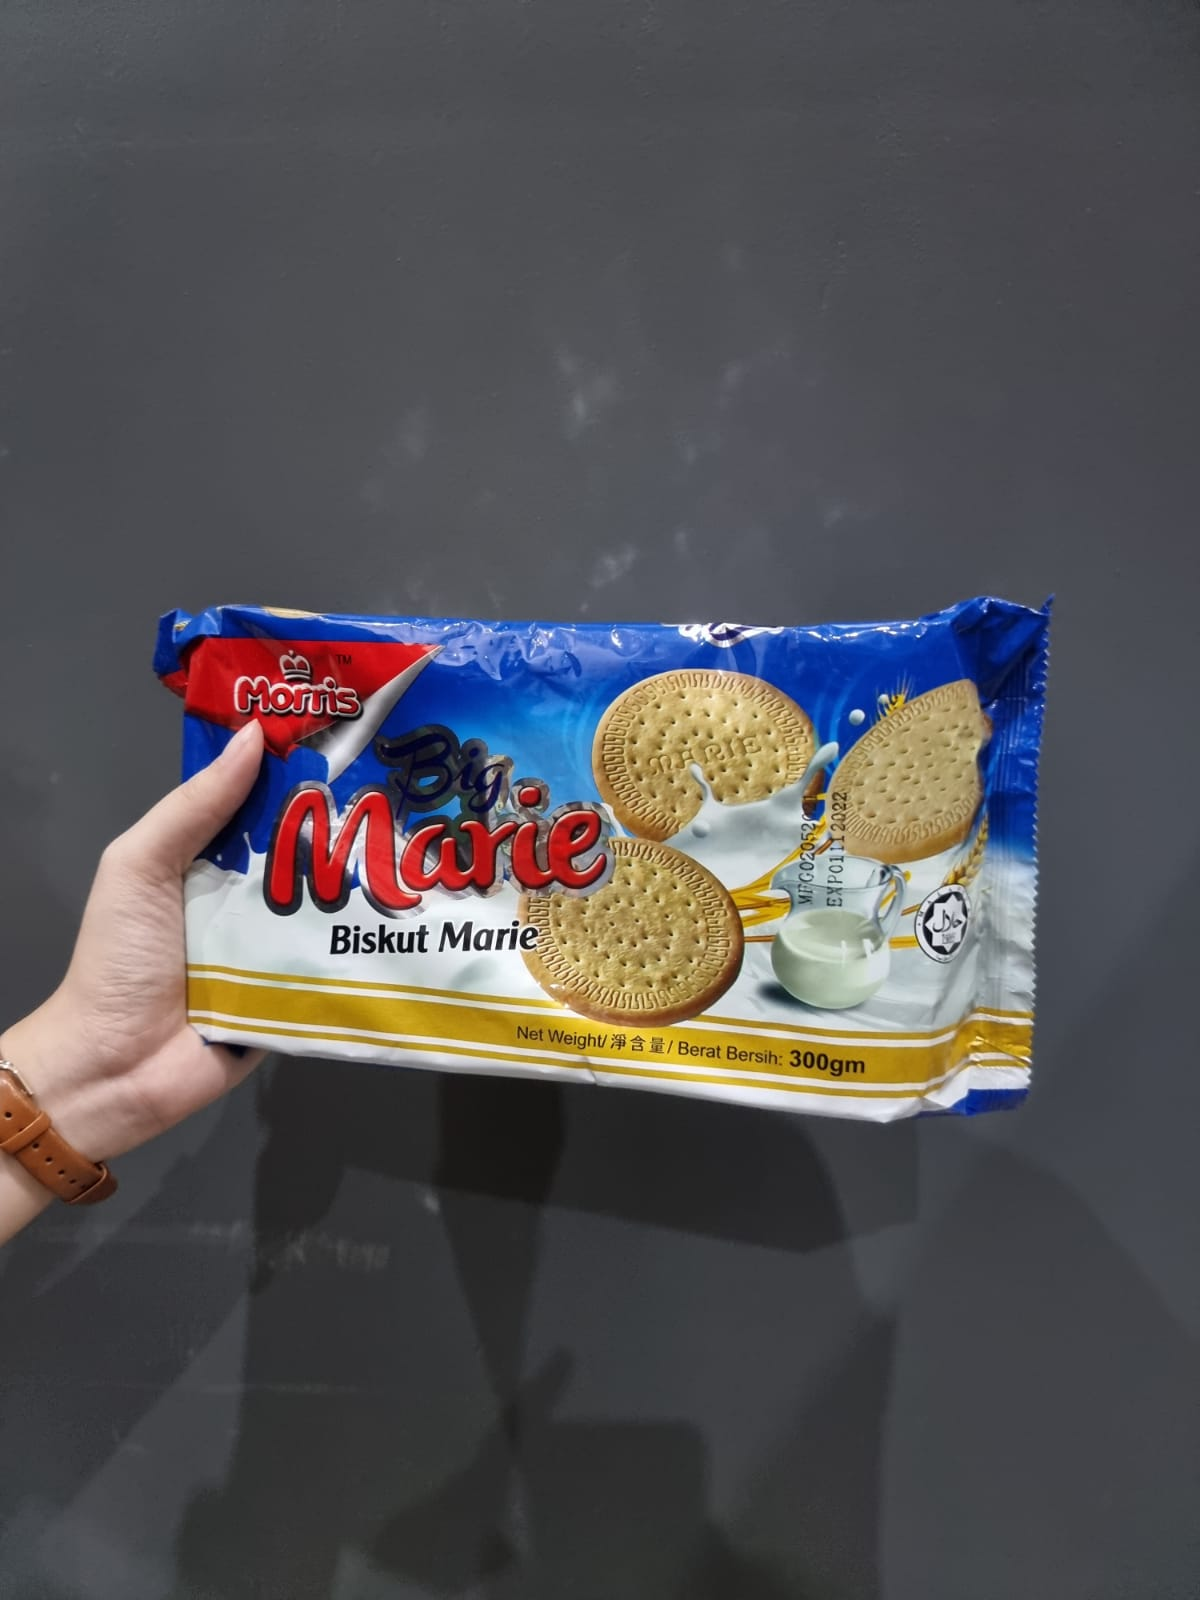Biscuits: (268, 649, 1018, 1082)
